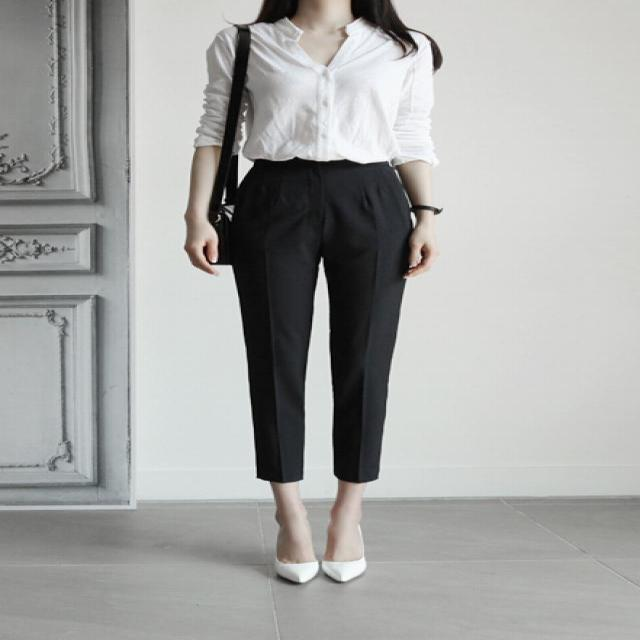long sleeve top: (196, 17, 436, 167)
trousers: (234, 160, 412, 479)
